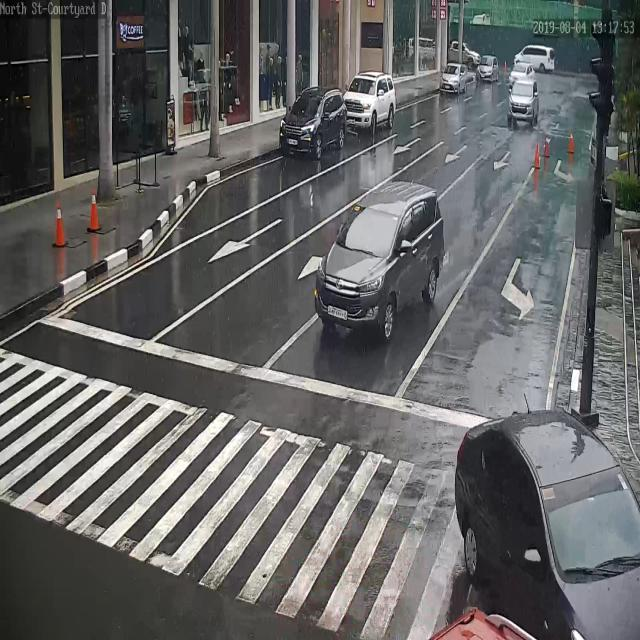car: (454, 408, 640, 640), (315, 182, 444, 328), (278, 87, 348, 158), (343, 74, 396, 133), (508, 77, 538, 123), (440, 63, 467, 94), (477, 55, 499, 83), (509, 63, 534, 86)
van: (514, 45, 555, 74)
